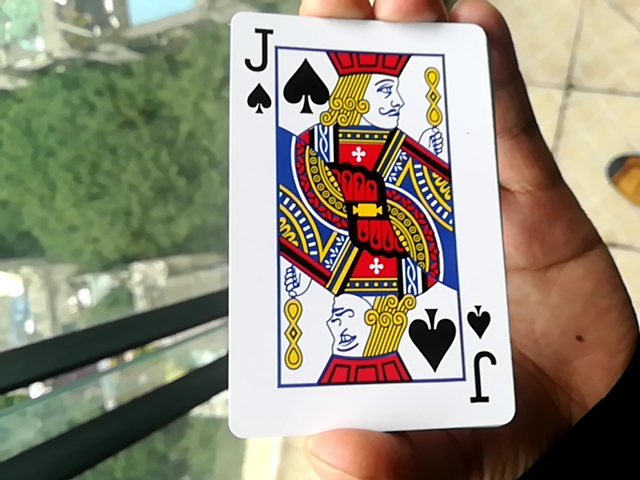ht j: (237, 0, 506, 438)
